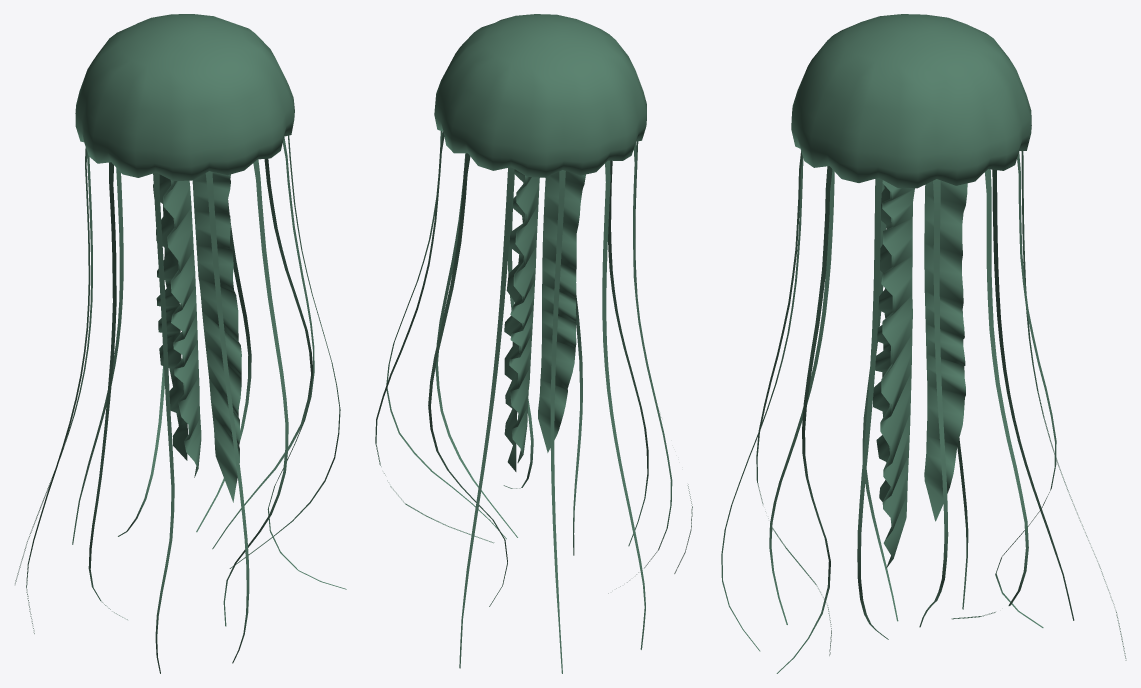
Rendered from Jellyfish.fbx.
3 renders of one model, left to right at view 1: azimuth 30°, elevation 25°; view 2: azimuth 150°, elevation 25°; view 3: azimuth 270°, elevation 25°, orthographic. The views are drawn at different scales.
Visible parts, largest first — view 1: jellyfish; view 2: jellyfish; view 3: jellyfish.
Part boxes in pixels (x1,y1,x2,y2): jellyfish: [15, 14, 346, 673]; jellyfish: [375, 14, 692, 673]; jellyfish: [721, 14, 1126, 673].
Size of the model in its own units: 3692 by 7546 by 4266.
